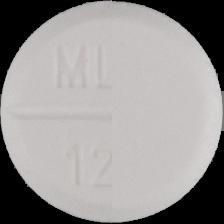67046-025: (0, 0, 224, 224)
